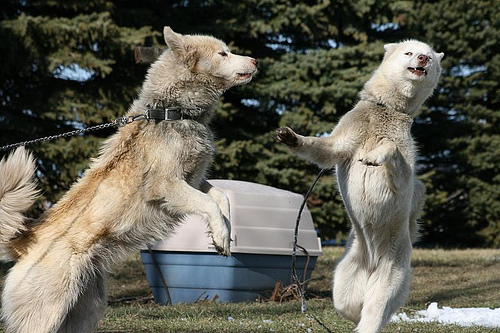dog: (0, 21, 260, 332), (272, 38, 445, 332)
